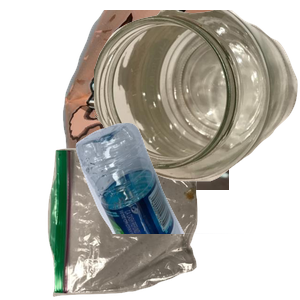glass: (94, 10, 300, 184)
metal: (60, 10, 300, 190)
plastic: (73, 120, 300, 300)
trash: (45, 144, 235, 300)
